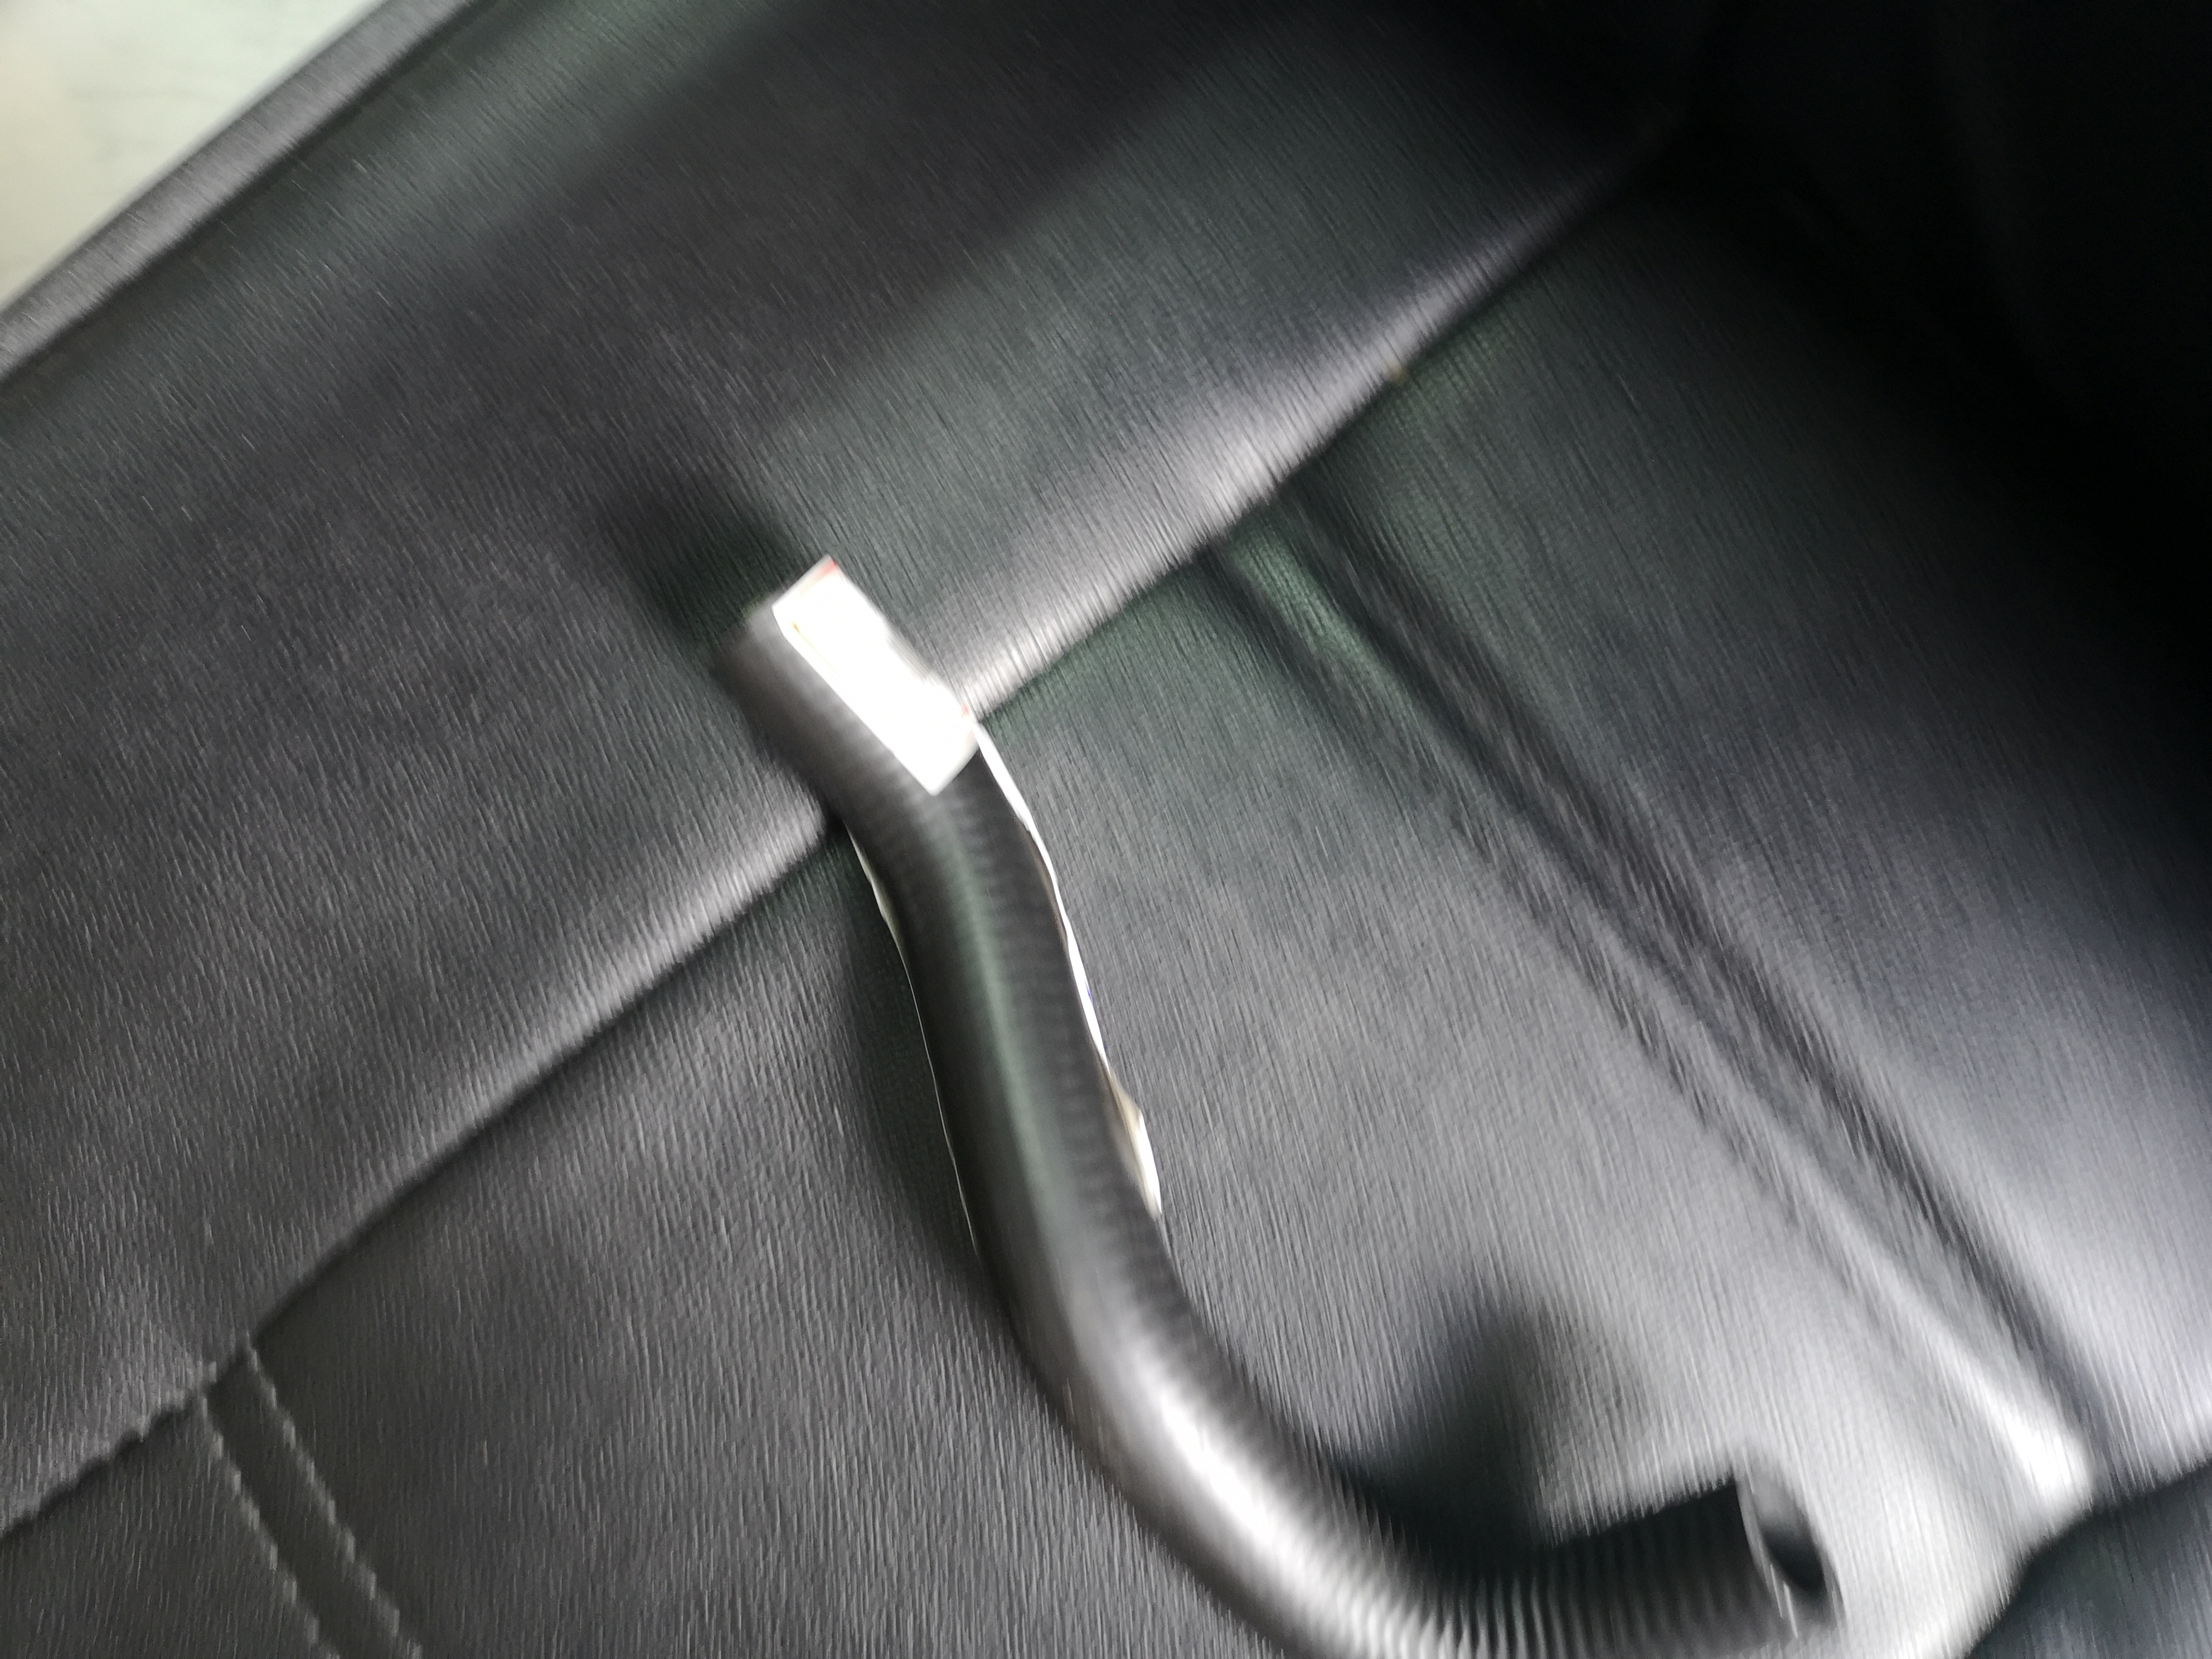ท่อยางน้ำมันเลี้ยงเทอร์โบ: (660, 551, 1930, 1659)
